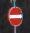No entry: (6, 5, 25, 28)
